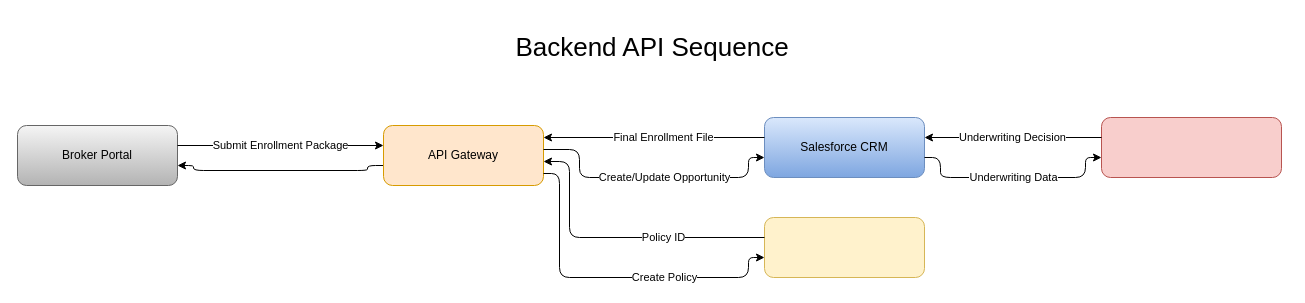
Some shapes in this 1305 by 303 pixel diagram are drawn without their labels. Here are the shapes that lost their labels. From the top down, the box of each, then its label:
(1100, 116, 1282, 178): Underwriting Engine
(764, 216, 924, 278): Billing System
